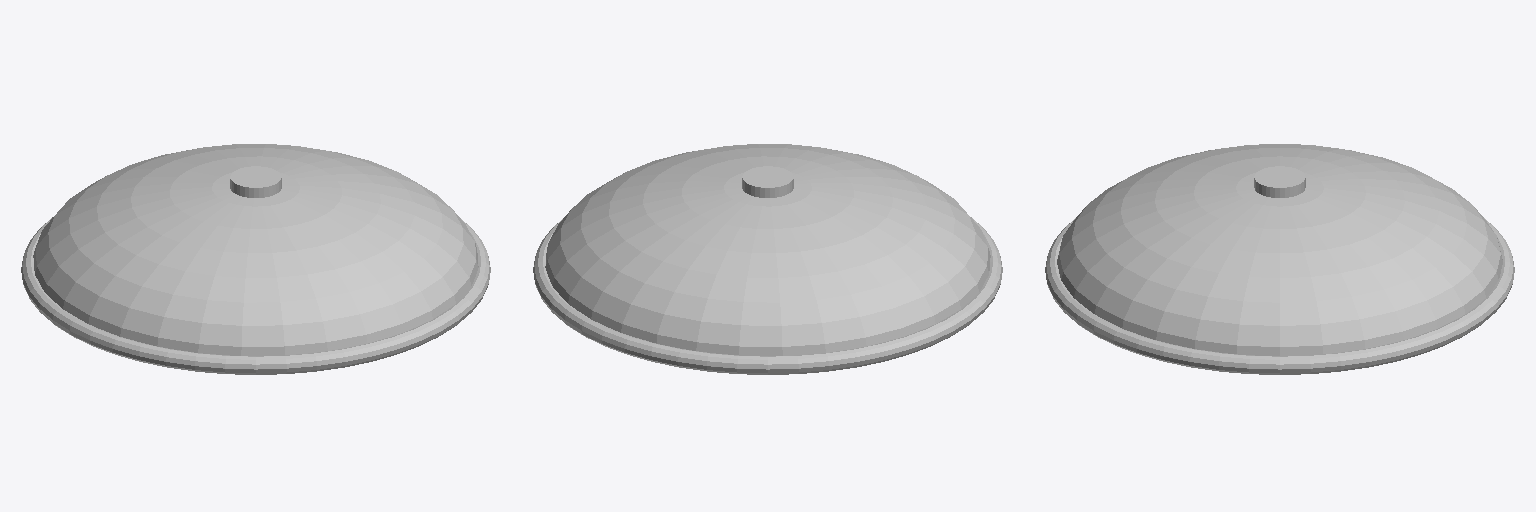
Rendered from middle-construction.obj.
3 views of the same model, side by side, from view 1: azimuth 30°, elevation 25°; view 2: azimuth 150°, elevation 25°; view 3: azimuth 270°, elevation 25° (orthographic).
Parts seen in each view (by area): view 1: sphere_Sphere.001, embracing_Torus.013, Cylinder_Cylinder.011; view 2: sphere_Sphere.001, embracing_Torus.013, Cylinder_Cylinder.011; view 3: sphere_Sphere.001, embracing_Torus.013, Cylinder_Cylinder.011.
Part boxes in pixels (x1,y1,x2,y2): sphere_Sphere.001: (33, 144, 478, 355); embracing_Torus.013: (21, 217, 490, 374); Cylinder_Cylinder.011: (230, 166, 281, 197); sphere_Sphere.001: (545, 144, 990, 355); embracing_Torus.013: (533, 217, 1002, 374); Cylinder_Cylinder.011: (742, 166, 793, 197); sphere_Sphere.001: (1057, 144, 1502, 355); embracing_Torus.013: (1045, 218, 1514, 374); Cylinder_Cylinder.011: (1254, 166, 1305, 197).
Bounding box in the file's own units: 0.146 × 0.0541 × 0.146.